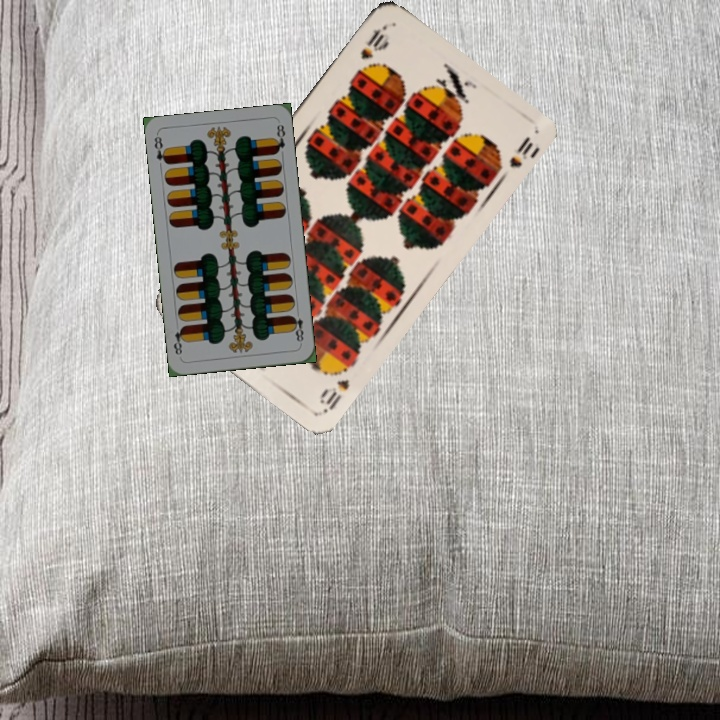E8: (288, 306, 306, 347), (150, 132, 171, 167)
S10: (315, 375, 352, 415), (356, 21, 390, 62)
